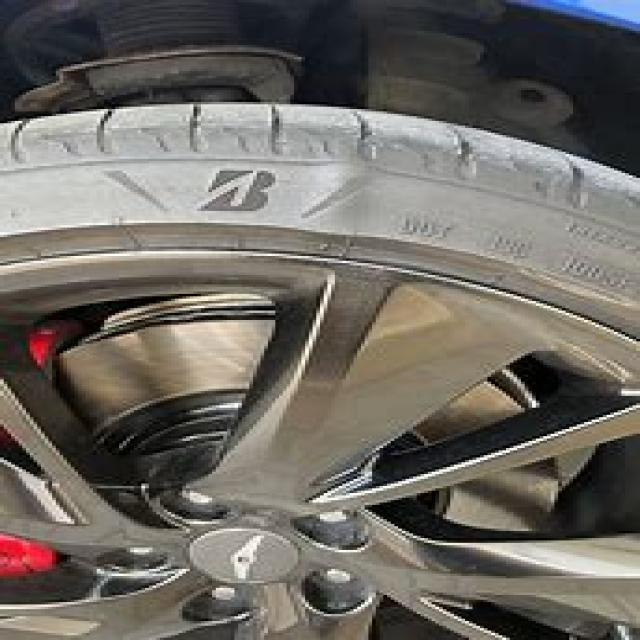Bulge: (284, 146, 389, 250)
